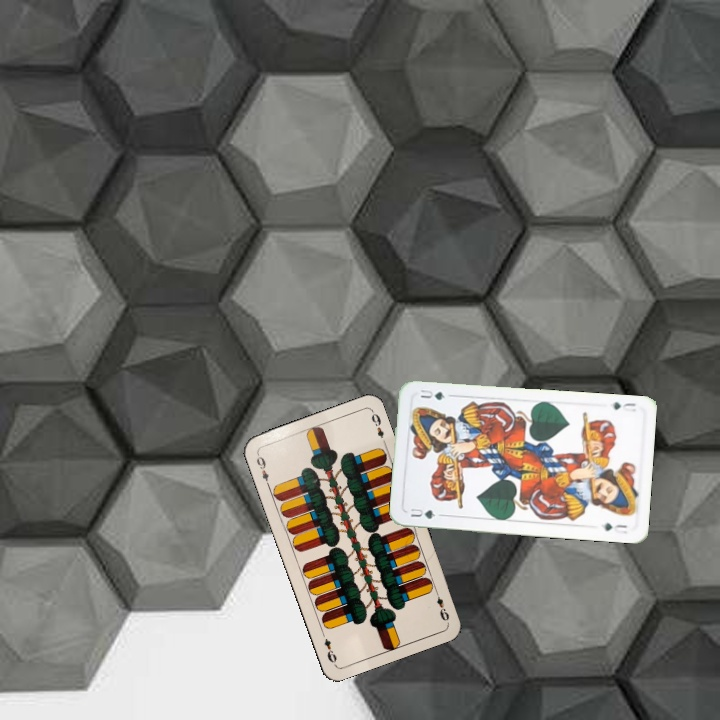E9: (431, 585, 452, 624), (252, 449, 272, 489)
GU: (407, 504, 444, 521), (609, 398, 639, 414)
